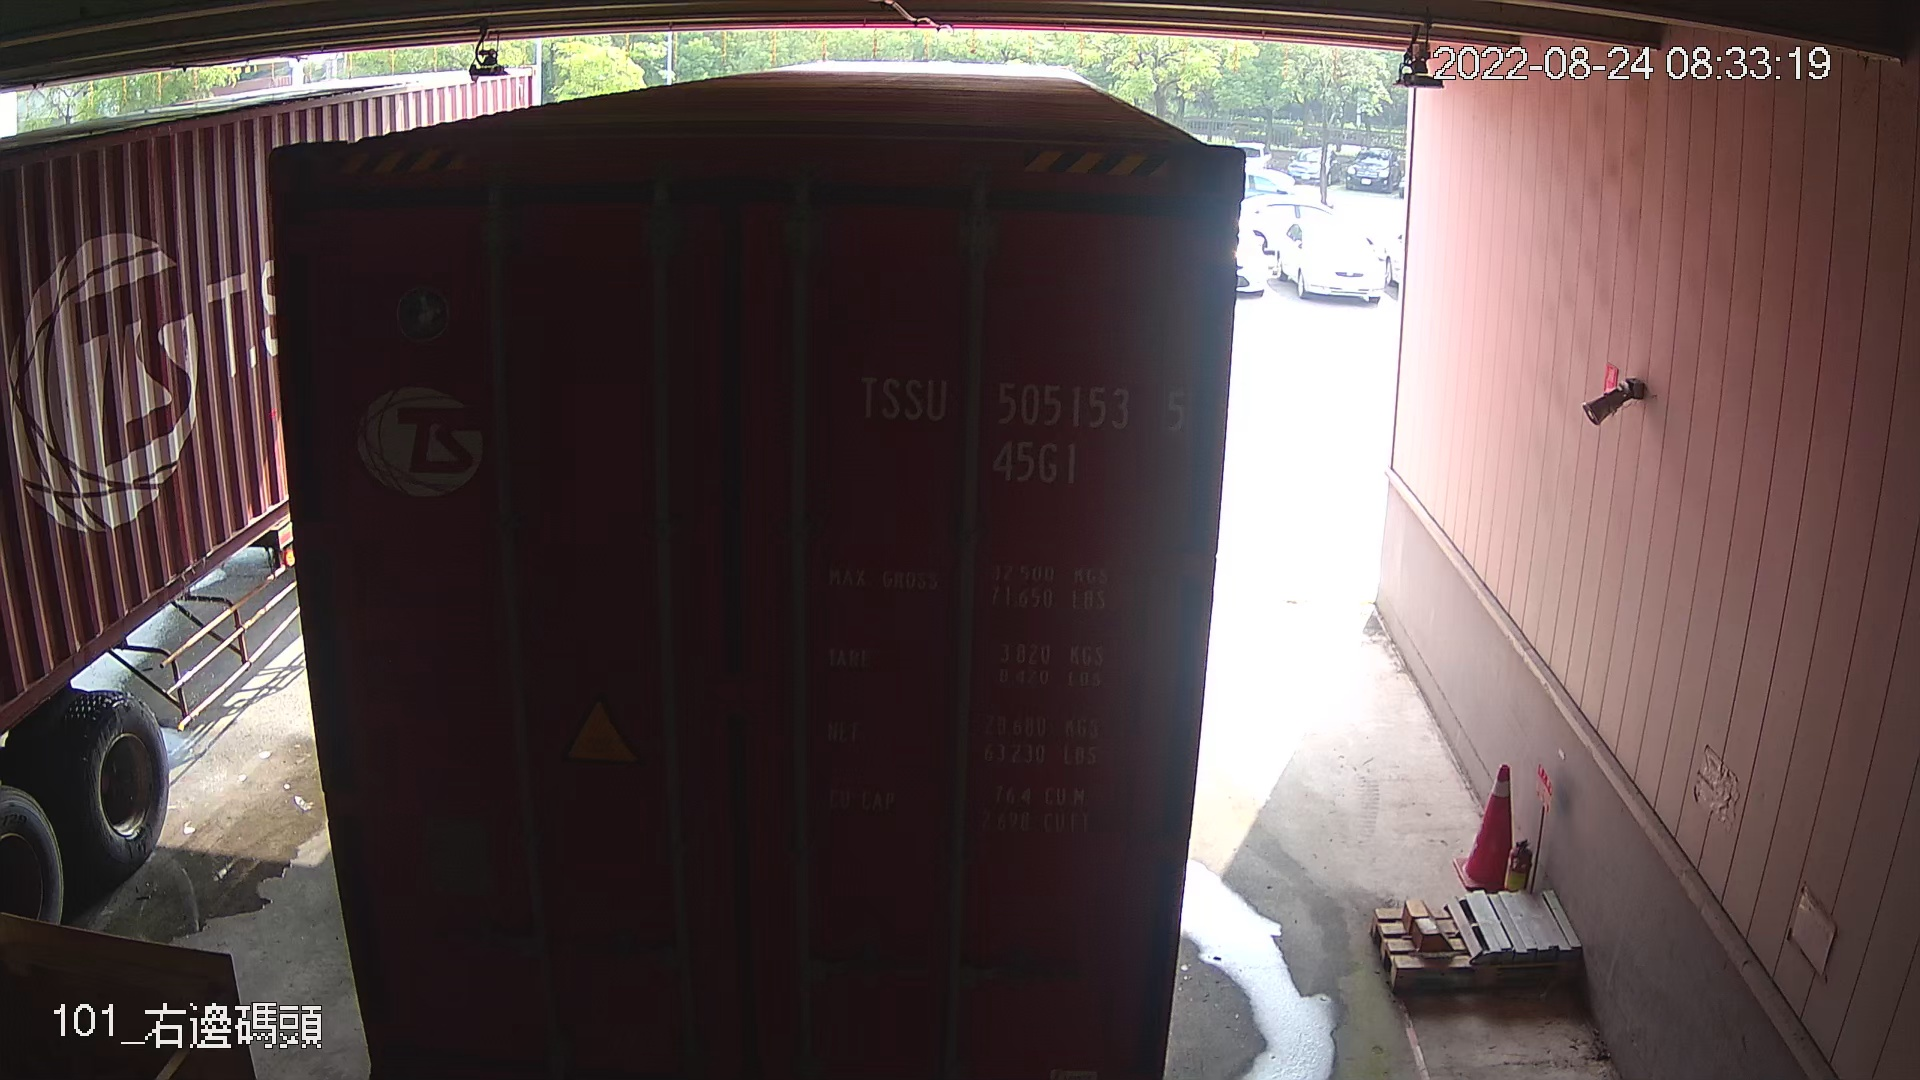container: (844, 357, 1204, 497)
